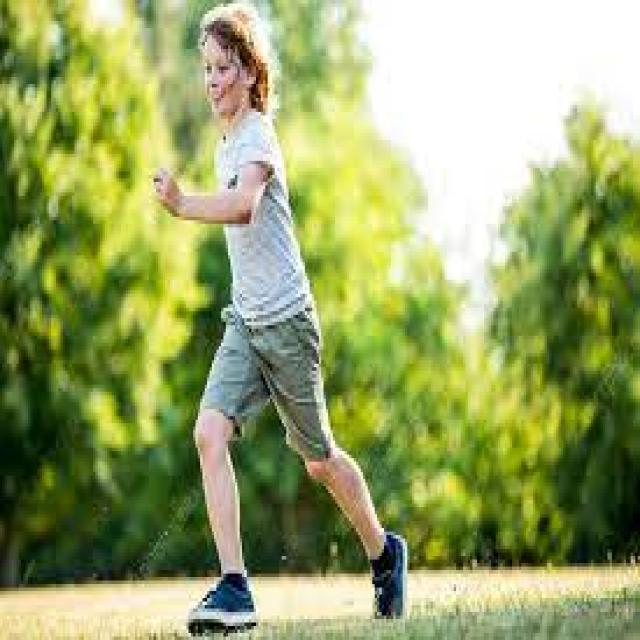Person: (154, 6, 406, 632)
